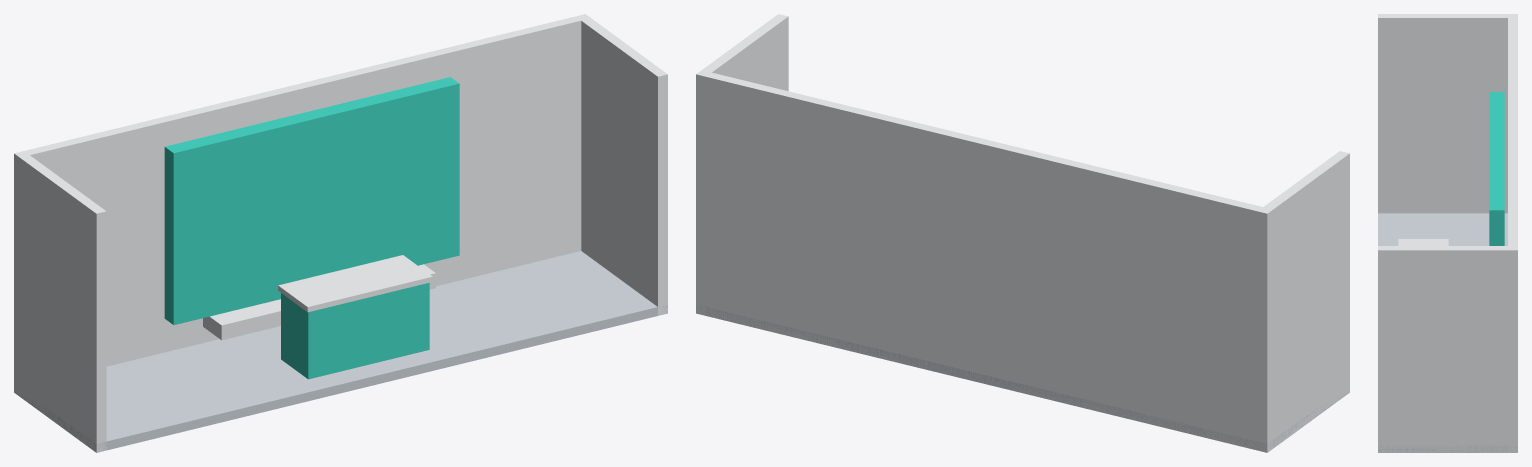
3 views of the same model, side by side, from view 1: azimuth 30°, elevation 25°; view 2: azimuth 150°, elevation 25°; view 3: azimuth 270°, elevation 25° (orthographic). The views are drawn at different scales.
Parts seen in each view (by area): view 1: Exhibition Booth Concept; view 2: Exhibition Booth Concept; view 3: Exhibition Booth Concept.
Boxes of the visible parts, x1,y1,x2,y2 form: Exhibition Booth Concept: (14, 14, 667, 452); Exhibition Booth Concept: (696, 14, 1349, 452); Exhibition Booth Concept: (1378, 14, 1517, 452).
Bounding box in the file's own units: 8 × 3.2 × 2.
